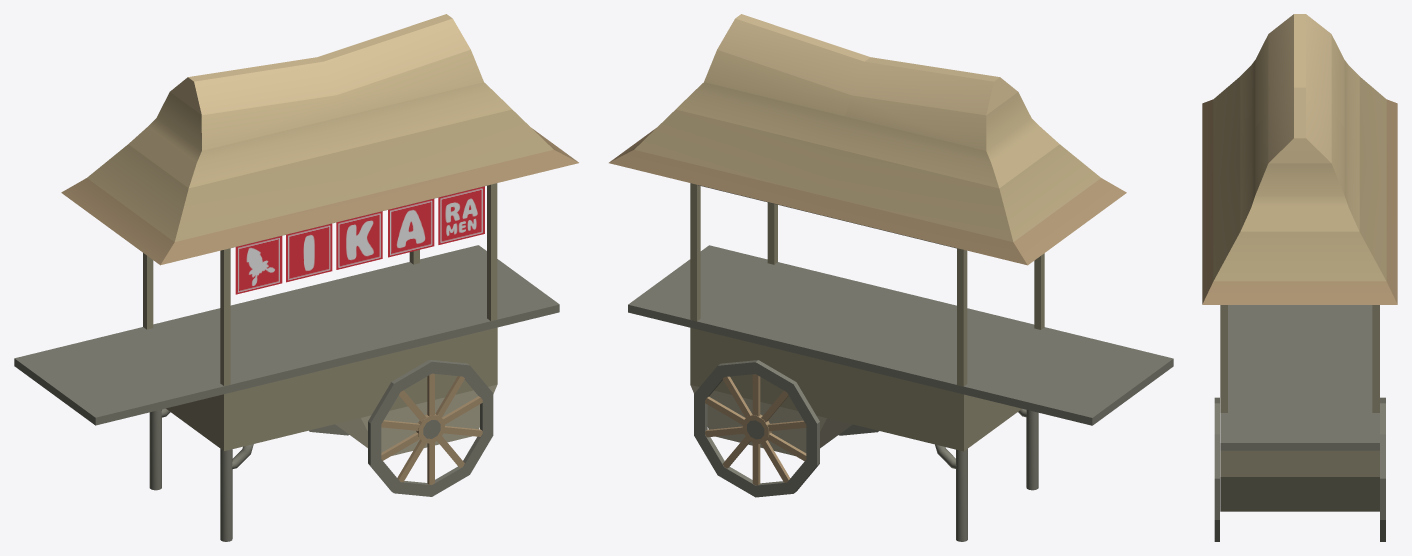
The model's file is ika_stand.fbx.
The picture shows the model from 3 angles, left to right: view 1: azimuth 30°, elevation 25°; view 2: azimuth 150°, elevation 25°; view 3: azimuth 270°, elevation 25°; orthographic projection.
Visible parts, largest first — view 1: polySurface147, polySurface148, polySurface153, polySurface175, polySurface179, polySurface176, polySurface177, polySurface178, polySurface168, polySurface169, polySurface150, polySurface152 (+4 smaller); view 2: polySurface147, polySurface148, polySurface160, polySurface180, polySurface170, polySurface152, polySurface150, polySurface169, polySurface165, polySurface164, polySurface166, polySurface168; view 3: polySurface147, polySurface148, polySurface160, polySurface153, polySurface168, polySurface170.
Boxes of the visible parts, x1,y1,x2,y2 form: polySurface147: (61, 14, 578, 265); polySurface148: (14, 245, 559, 455); polySurface153: (368, 359, 493, 496); polySurface175: (235, 236, 282, 294); polySurface179: (438, 186, 484, 244); polySurface176: (286, 223, 332, 282); polySurface177: (336, 211, 382, 269); polySurface178: (388, 199, 434, 257); polySurface168: (487, 183, 497, 320); polySurface169: (220, 248, 230, 385); polySurface150: (220, 449, 232, 541); polySurface152: (149, 409, 161, 490); polySurface147: (609, 14, 1126, 265); polySurface148: (628, 245, 1173, 455); polySurface160: (694, 360, 819, 497); polySurface180: (957, 248, 967, 386); polySurface170: (690, 183, 700, 321); polySurface152: (956, 449, 967, 541); polySurface150: (1026, 409, 1038, 490); polySurface169: (1034, 253, 1044, 329); polySurface165: (722, 376, 790, 482); polySurface164: (752, 374, 760, 485); polySurface166: (705, 396, 806, 461); polySurface168: (767, 202, 777, 264); polySurface147: (1202, 14, 1397, 304); polySurface148: (1220, 305, 1379, 511); polySurface160: (1380, 397, 1385, 541); polySurface153: (1214, 397, 1219, 541); polySurface168: (1220, 305, 1227, 412); polySurface170: (1372, 305, 1379, 412).
Bounding box in the file's own units: 3.53 × 3.08 × 1.28.
